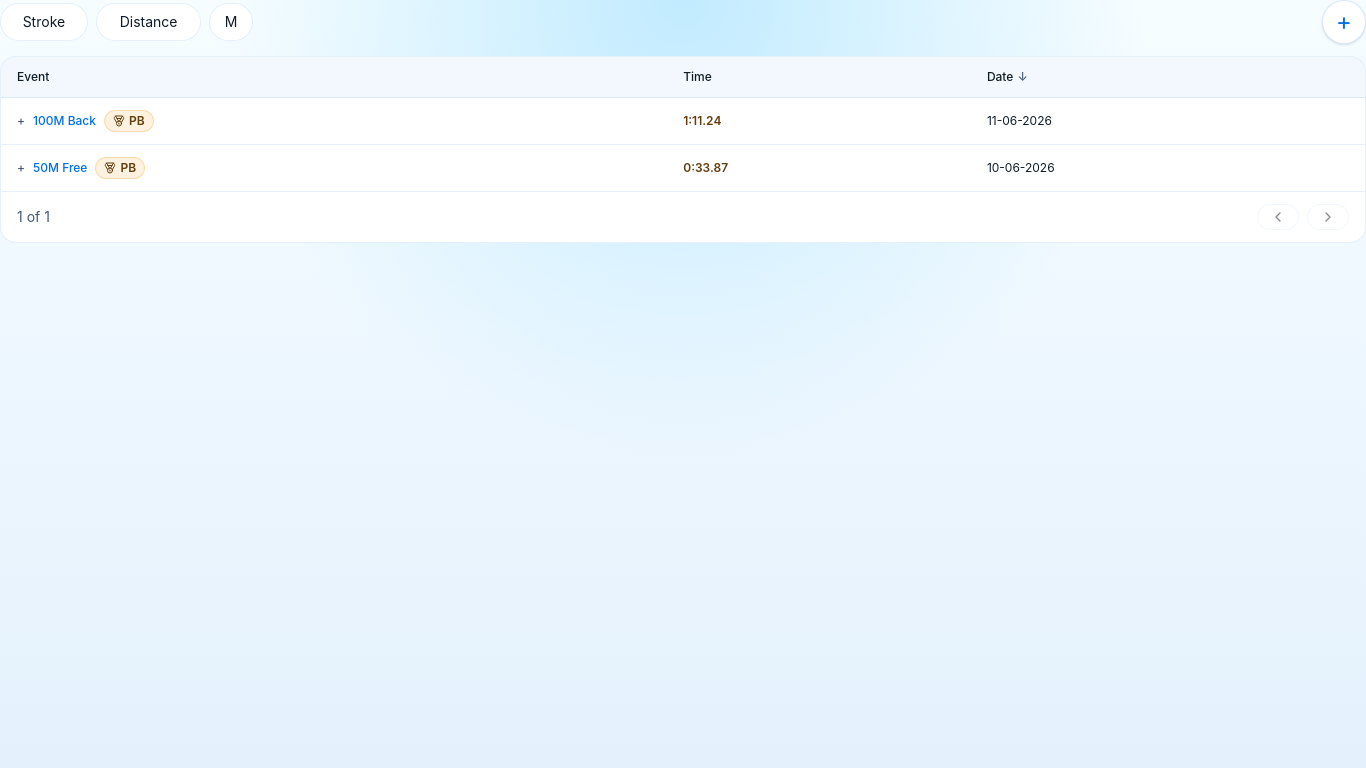
Test: Performances › keeps save disabled until a time is explicitly entered
This screenshot has width=1366, height=768.
Click the button named "Add performance".
click(1344, 22)  # box [1322,0,1365,44]
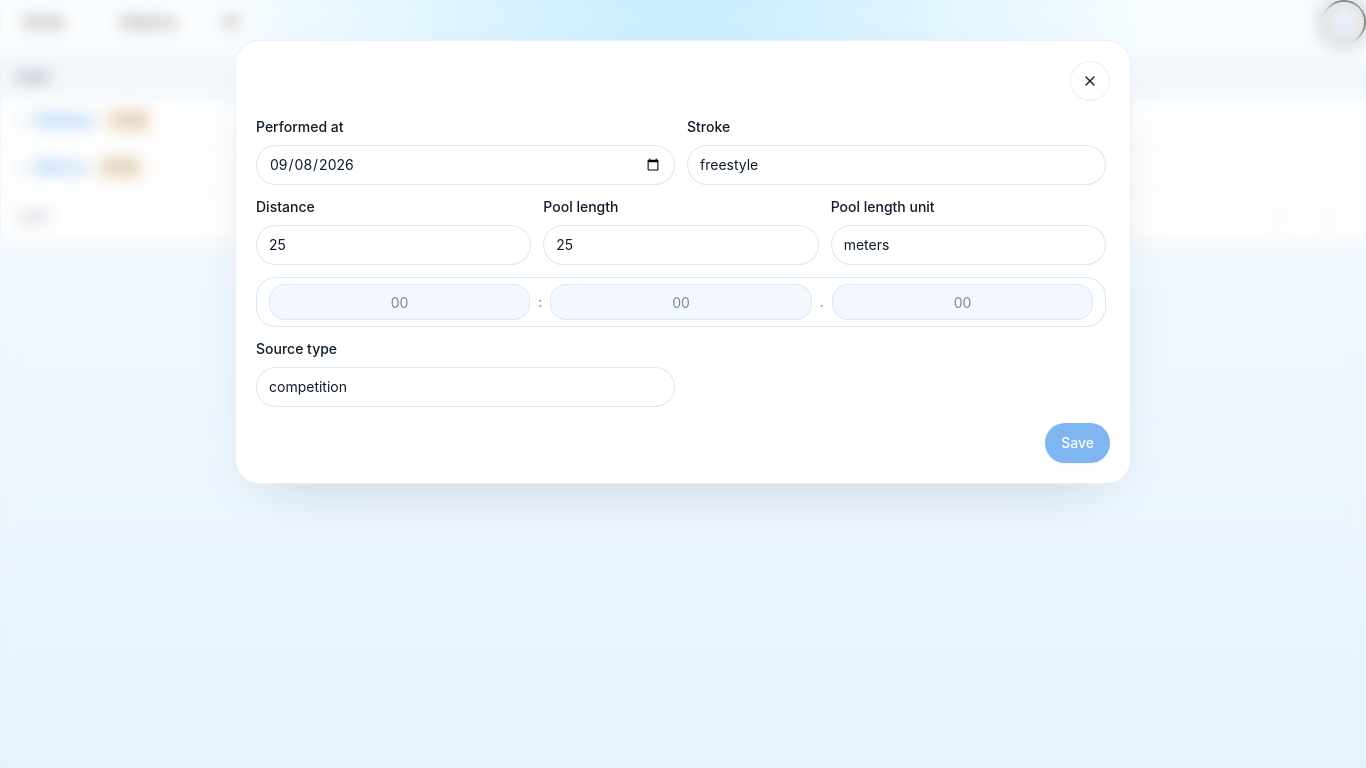
Expected: the button "Save" is disabled, [1045,423,1110,463]
Type "33" into the 2nd field with placeholder "00".
click(681, 302); type("33")  # box [550,284,812,320]
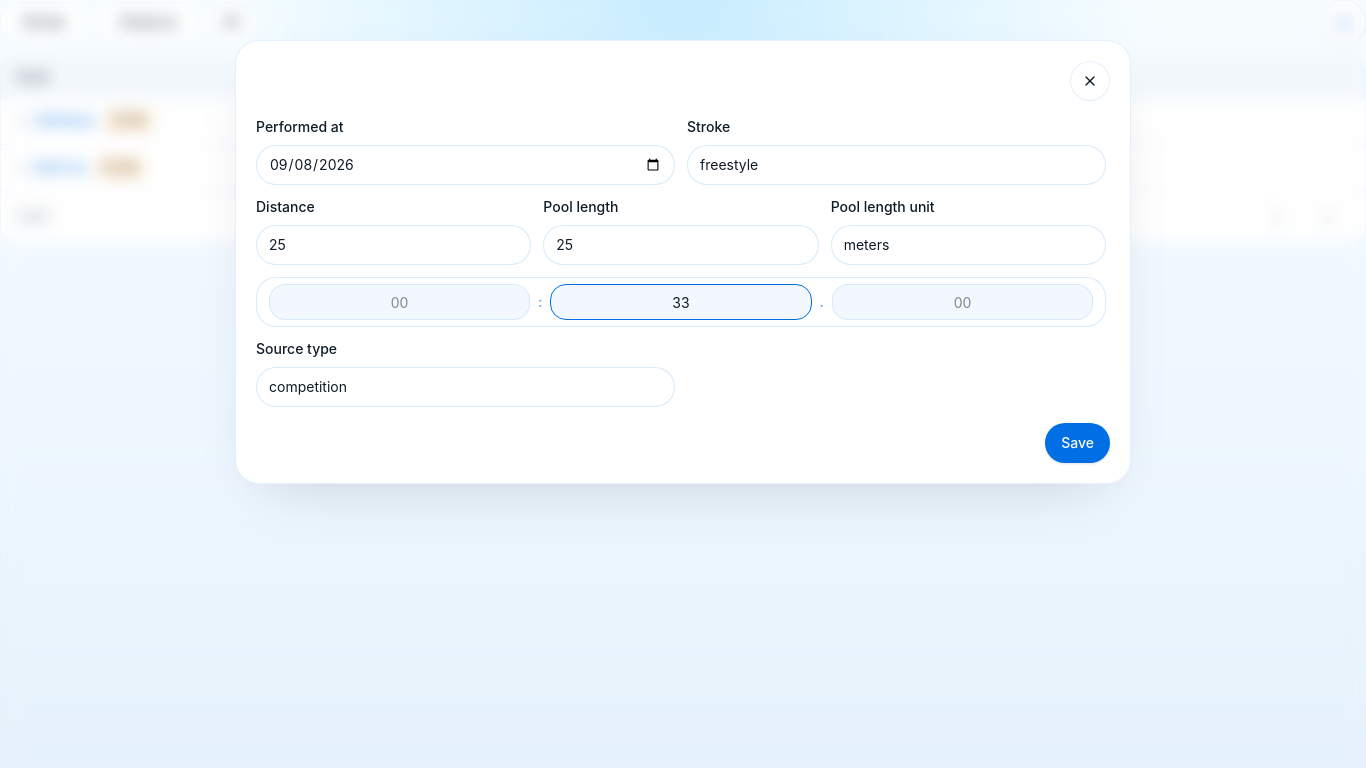
Expected: the button "Save" is enabled, [1045,423,1110,463]
